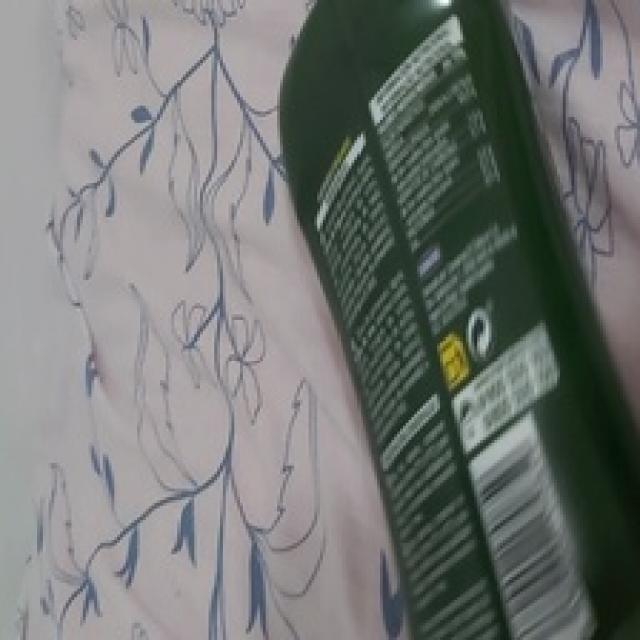Plastic: (276, 0, 640, 640)
